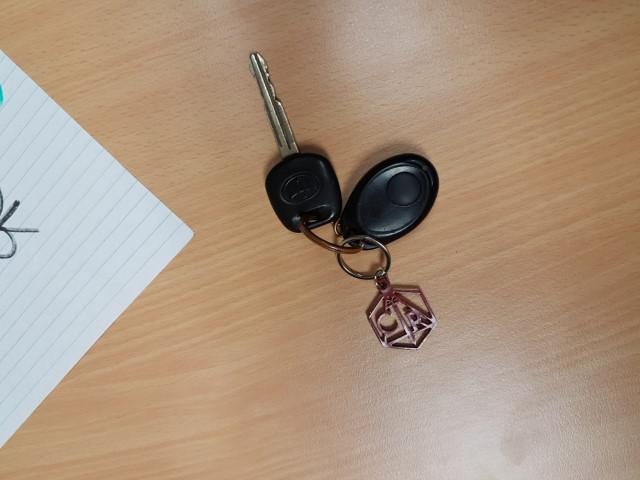key: (250, 51, 340, 233)
